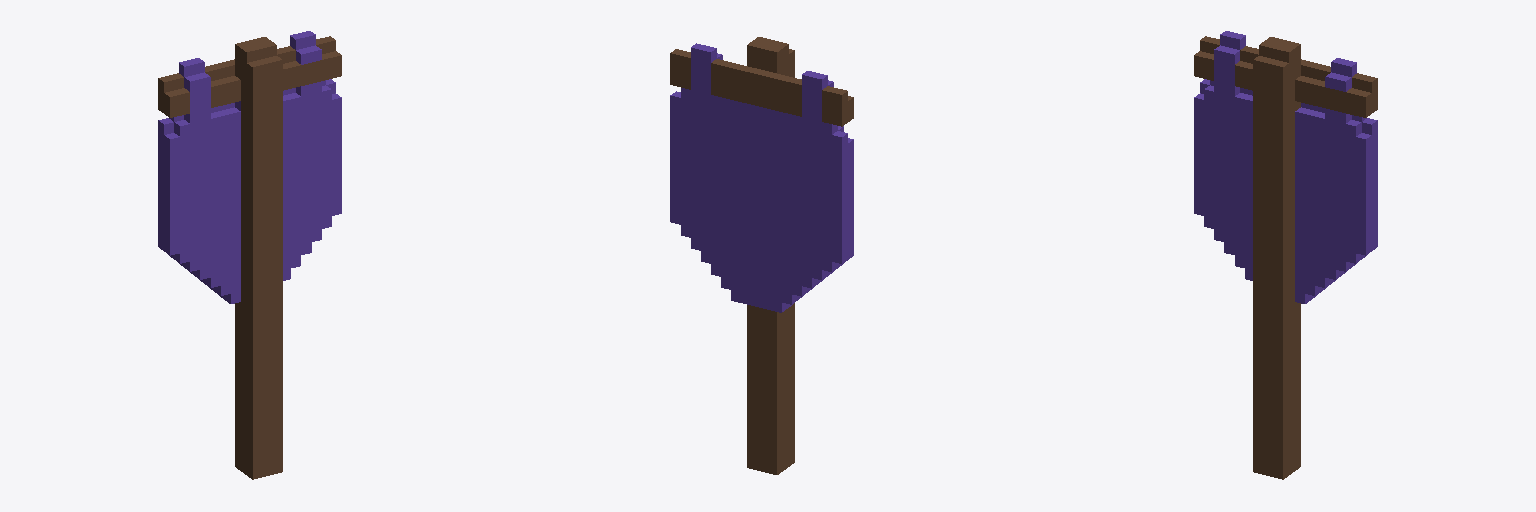
The picture shows the model from 3 angles: view 1: azimuth 30°, elevation 25°; view 2: azimuth 150°, elevation 25°; view 3: azimuth 330°, elevation 25°; orthographic projection.
Bounding box in the file's own units: 17 × 40 × 4.
1 materials, 1 textured.